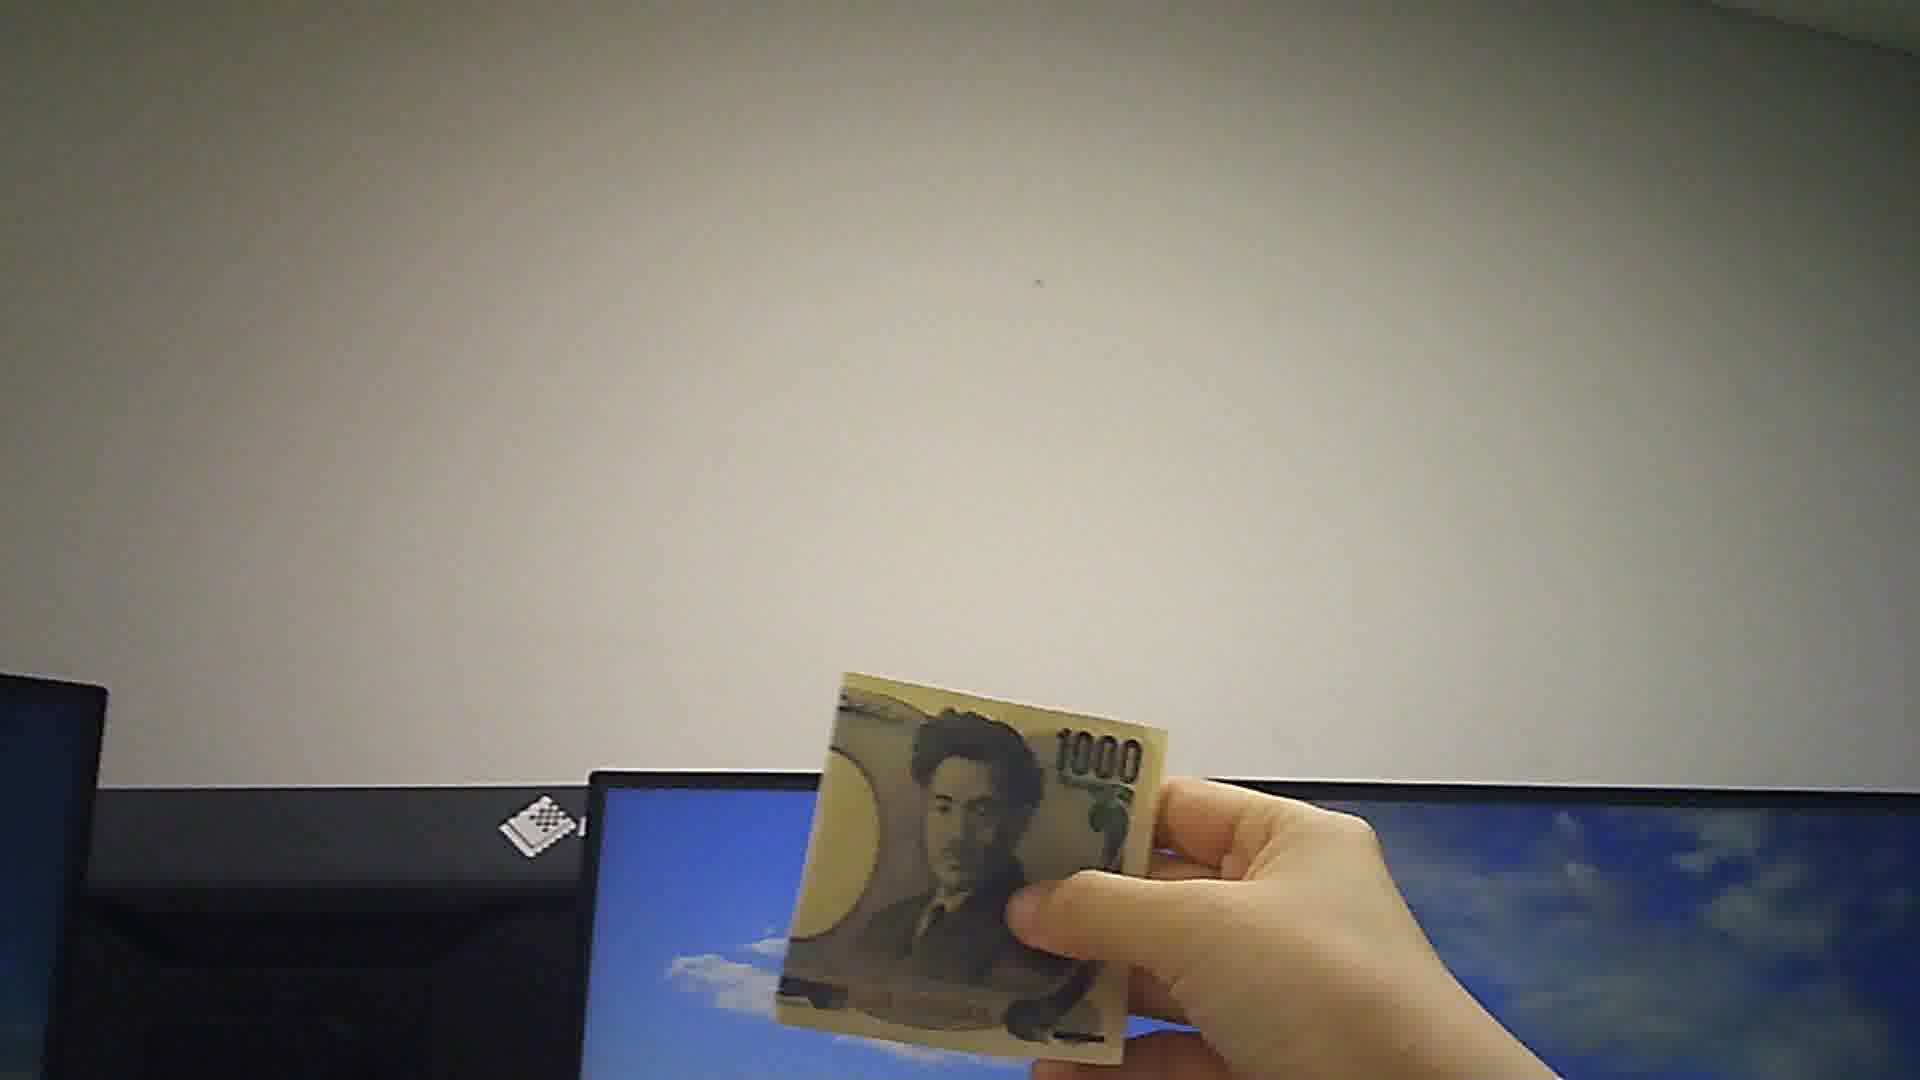1,000 Yen: (775, 657, 1180, 1079)
